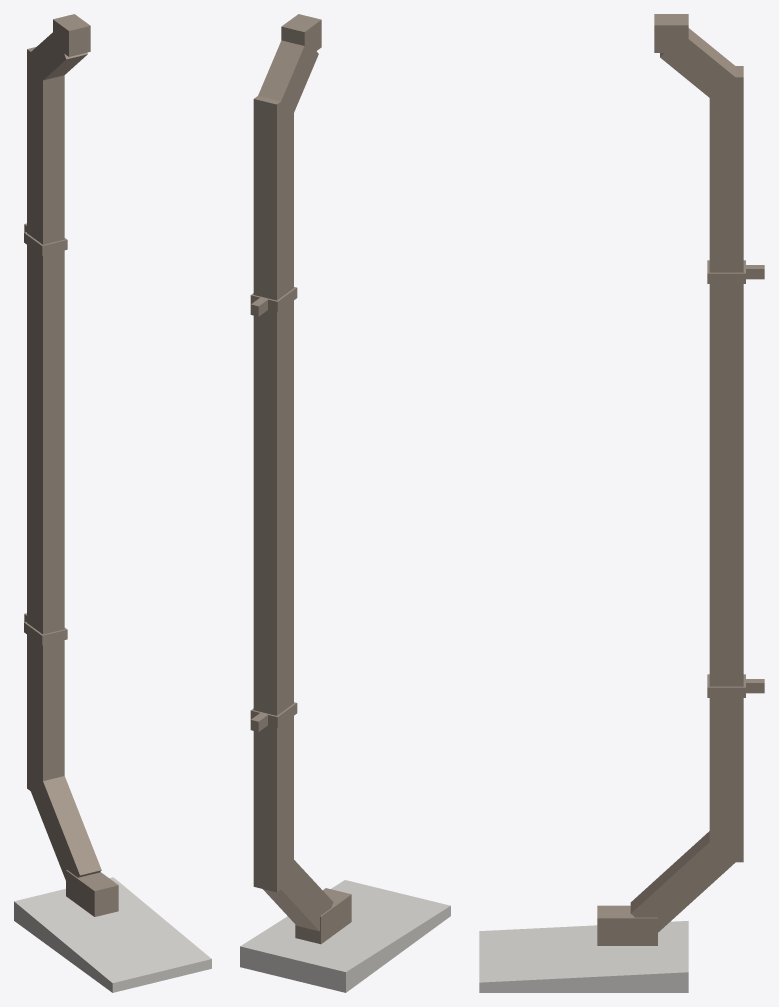
Rendered from downspout_porch.glb.
The picture shows the model from 3 angles, left to right: view 1: azimuth 30°, elevation 25°; view 2: azimuth 150°, elevation 25°; view 3: azimuth 270°, elevation 25°; orthographic projection. The views are drawn at different scales.
Visible parts, largest first — view 1: downspout_porch_gutter, downspout_porch_concrete; view 2: downspout_porch_gutter, downspout_porch_concrete; view 3: downspout_porch_gutter, downspout_porch_concrete.
Part boxes in pixels (<box>): downspout_porch_gutter: <box>24,14,118,916</box>; downspout_porch_concrete: <box>14,877,211,992</box>; downspout_porch_gutter: <box>250,14,351,944</box>; downspout_porch_concrete: <box>240,880,450,992</box>; downspout_porch_gutter: <box>597,14,764,945</box>; downspout_porch_concrete: <box>479,921,688,992</box>.
Bounding box in the file's own units: 0.32 × 2.75 × 0.75.
